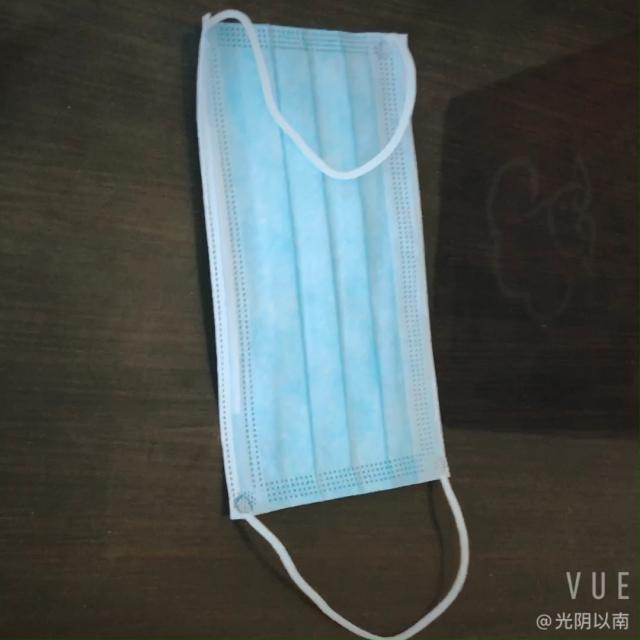face mask: (172, 21, 442, 538)
